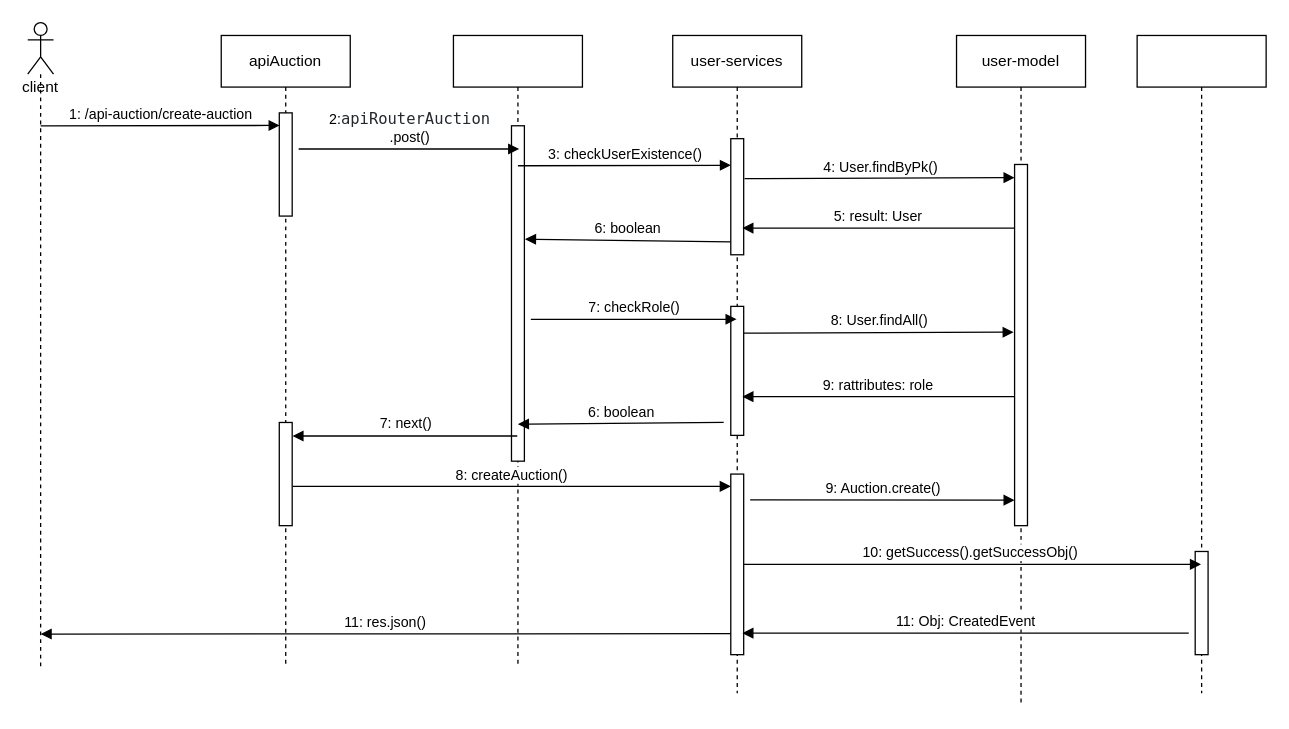
The diagram is 1289 pixels wide and 729 high, and some of its shapes have lost their labels. The shapes that lost their labels are listed below. From the top down, each one's box as (x1, y1, x2, y2) in pixels, then its label:
(452, 34, 582, 668): Middleware
(1136, 34, 1266, 693): factory
